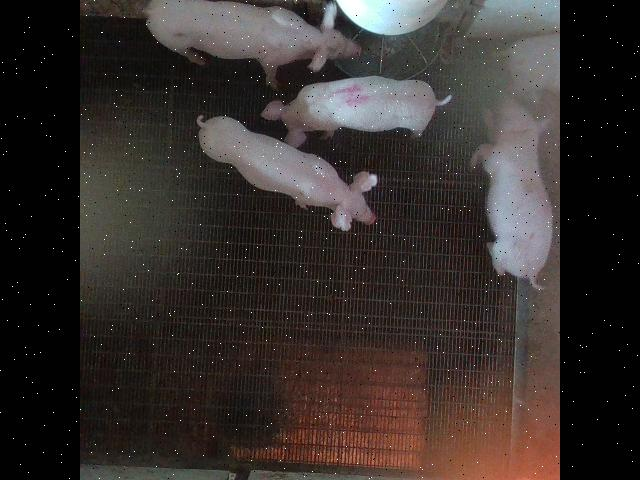pig-1: (471, 96, 552, 288)
pig-4: (261, 76, 451, 146)
